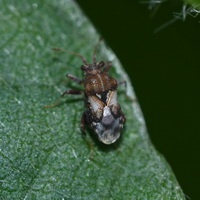insect: (52, 47, 125, 144)
